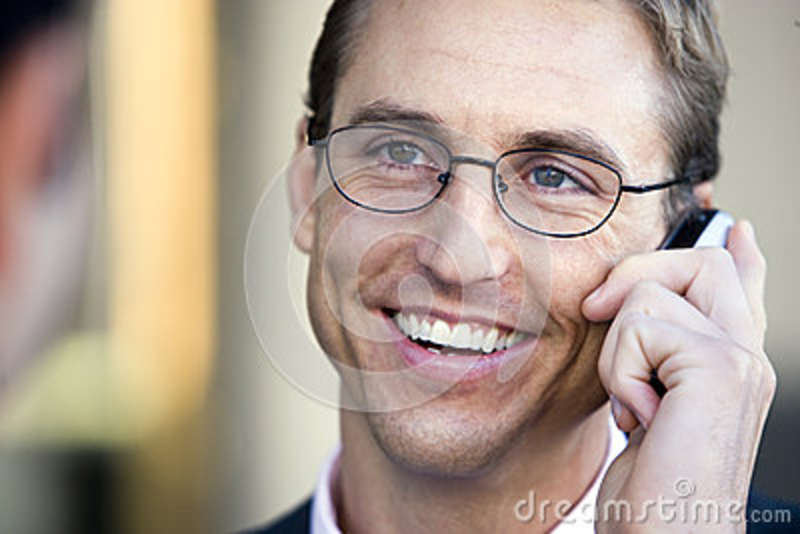talk: (308, 99, 788, 534)
